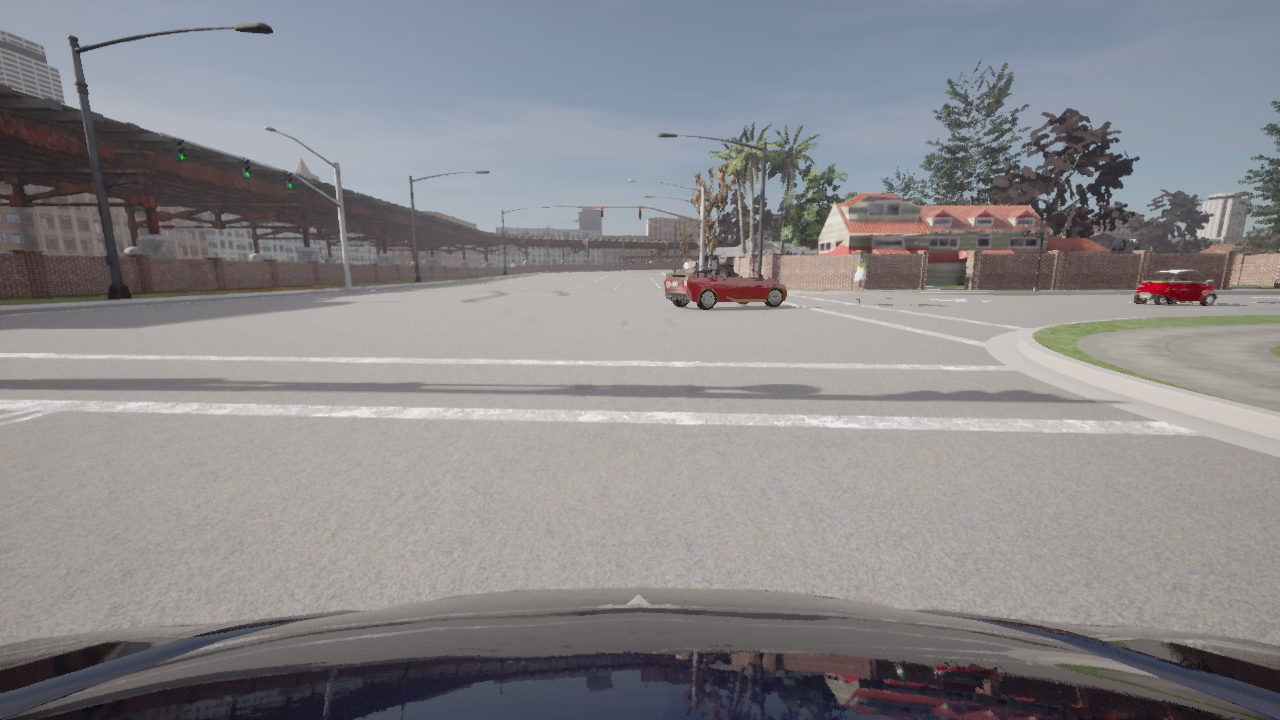cyclist: (0, 588, 1279, 719), (664, 263, 787, 310), (1133, 269, 1218, 306)
pedestrian: (851, 254, 871, 303)
